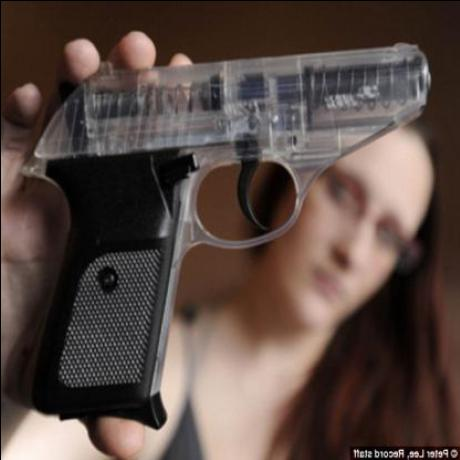weapon: (23, 39, 433, 431)
